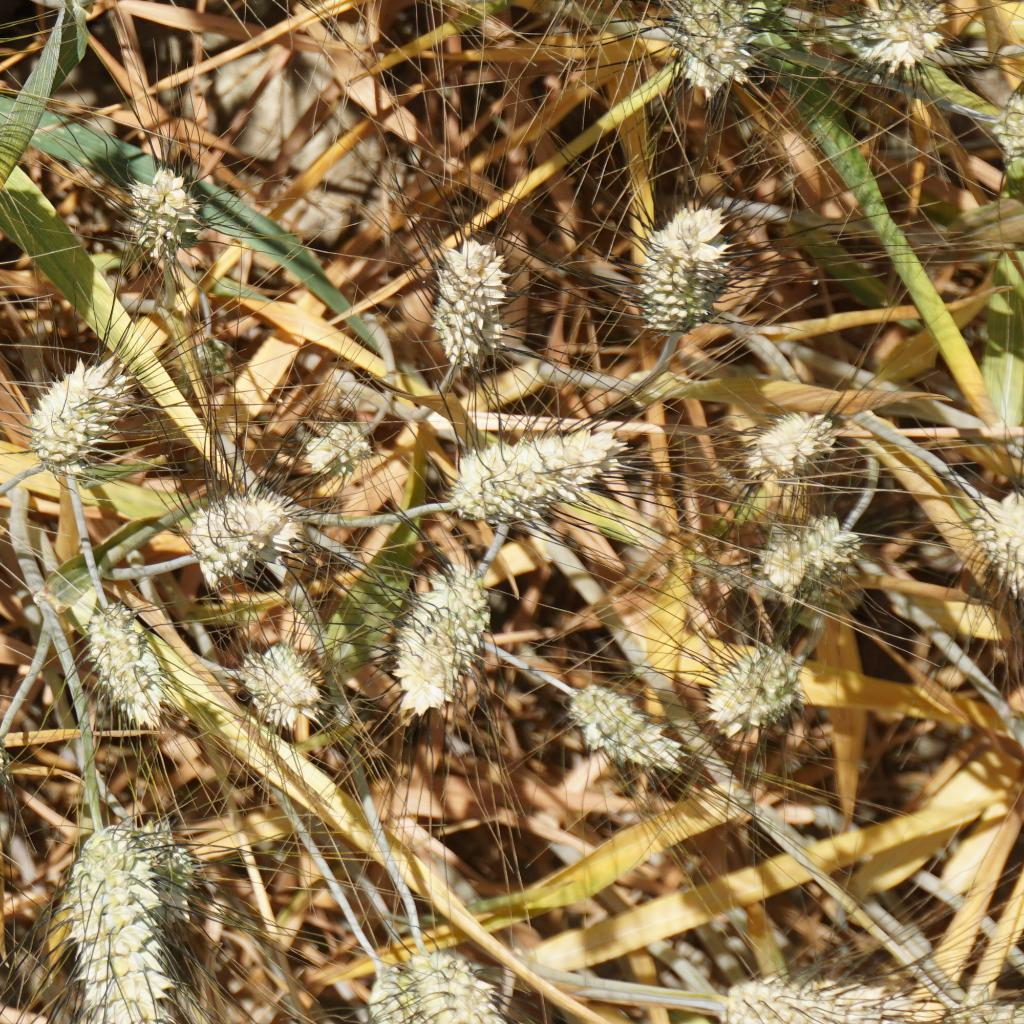0-0: (442, 416, 623, 521), (67, 827, 165, 1016), (24, 349, 151, 486), (391, 556, 496, 707), (626, 202, 735, 338), (82, 585, 177, 738), (174, 483, 300, 594), (437, 216, 506, 367), (130, 812, 212, 939), (566, 679, 679, 771), (728, 958, 882, 1024), (232, 630, 327, 722), (669, 0, 757, 96), (124, 162, 205, 265), (749, 402, 840, 481), (412, 949, 505, 1024), (709, 643, 790, 729), (964, 485, 1024, 597), (763, 510, 848, 588), (862, 0, 944, 59), (304, 414, 379, 476), (0, 725, 22, 858), (371, 965, 416, 1024), (194, 334, 231, 371)
